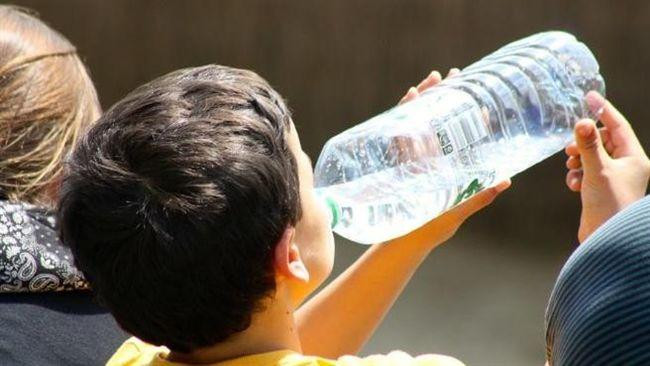bottle: (309, 23, 609, 248)
